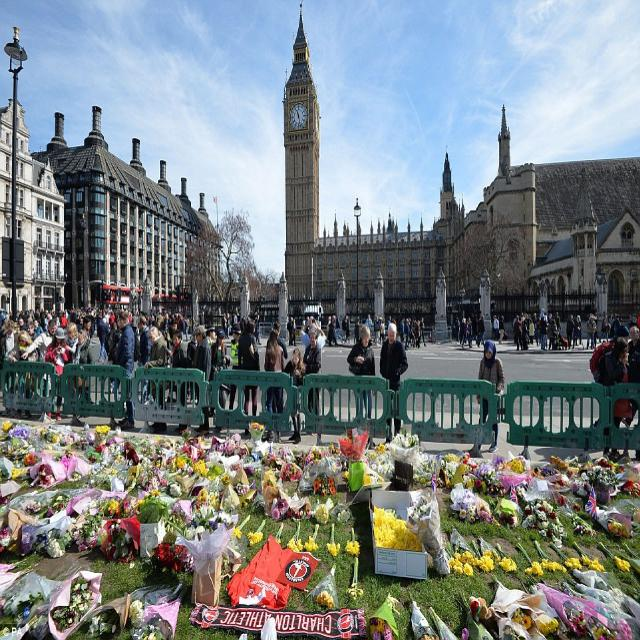body: (0, 294, 206, 350), (511, 308, 640, 351), (472, 336, 506, 454), (378, 322, 408, 444), (345, 322, 377, 420), (236, 318, 262, 437), (142, 326, 169, 434), (115, 310, 136, 432), (166, 328, 190, 434), (44, 326, 70, 422), (263, 329, 285, 442), (282, 346, 306, 444), (191, 324, 212, 436), (620, 324, 640, 429), (301, 328, 322, 416), (210, 326, 227, 432), (21, 316, 58, 364), (220, 306, 264, 346), (370, 316, 422, 348), (227, 324, 245, 412), (0, 320, 20, 396), (596, 338, 629, 384), (201, 324, 217, 418), (138, 314, 151, 406), (298, 314, 326, 352), (7, 329, 39, 362), (185, 329, 198, 404), (266, 321, 288, 362), (72, 328, 96, 364), (60, 322, 79, 364), (607, 324, 630, 352), (96, 316, 108, 362), (546, 318, 558, 351), (326, 314, 338, 346), (476, 314, 487, 348), (513, 314, 523, 351), (586, 314, 596, 350), (566, 314, 575, 351), (324, 314, 335, 344), (80, 314, 92, 340), (288, 318, 297, 348), (419, 316, 427, 348), (403, 318, 411, 350), (333, 312, 341, 344), (365, 314, 374, 342), (458, 316, 467, 344), (492, 314, 501, 342), (498, 314, 507, 342), (352, 316, 360, 344), (527, 318, 535, 346), (466, 316, 473, 348), (286, 316, 293, 346), (340, 314, 347, 344), (452, 316, 460, 342), (301, 312, 318, 324), (344, 318, 351, 344), (415, 320, 421, 350)
